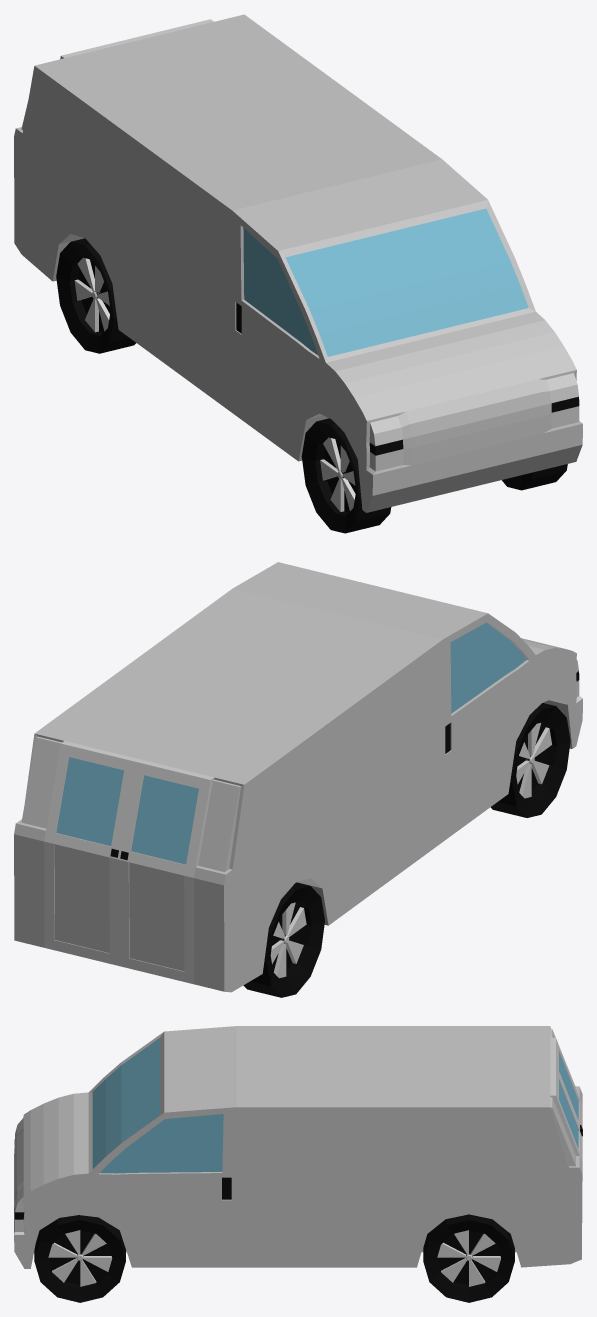
The model's file is wagen.obj.
3 views of the same model, one above another, from view 1: azimuth 30°, elevation 25°; view 2: azimuth 150°, elevation 25°; view 3: azimuth 270°, elevation 25° (orthographic). The views are drawn at different scales.
Visible parts, largest first — view 1: Cube_Cube.001; view 2: Cube_Cube.001; view 3: Cube_Cube.001.
Part boxes in pixels (x1,y1,x2,y2): Cube_Cube.001: (14,14,582,533); Cube_Cube.001: (14,562,582,997); Cube_Cube.001: (14,1026,582,1302).
Size of the model in its own units: 2.7 by 3.01 by 7.95.
